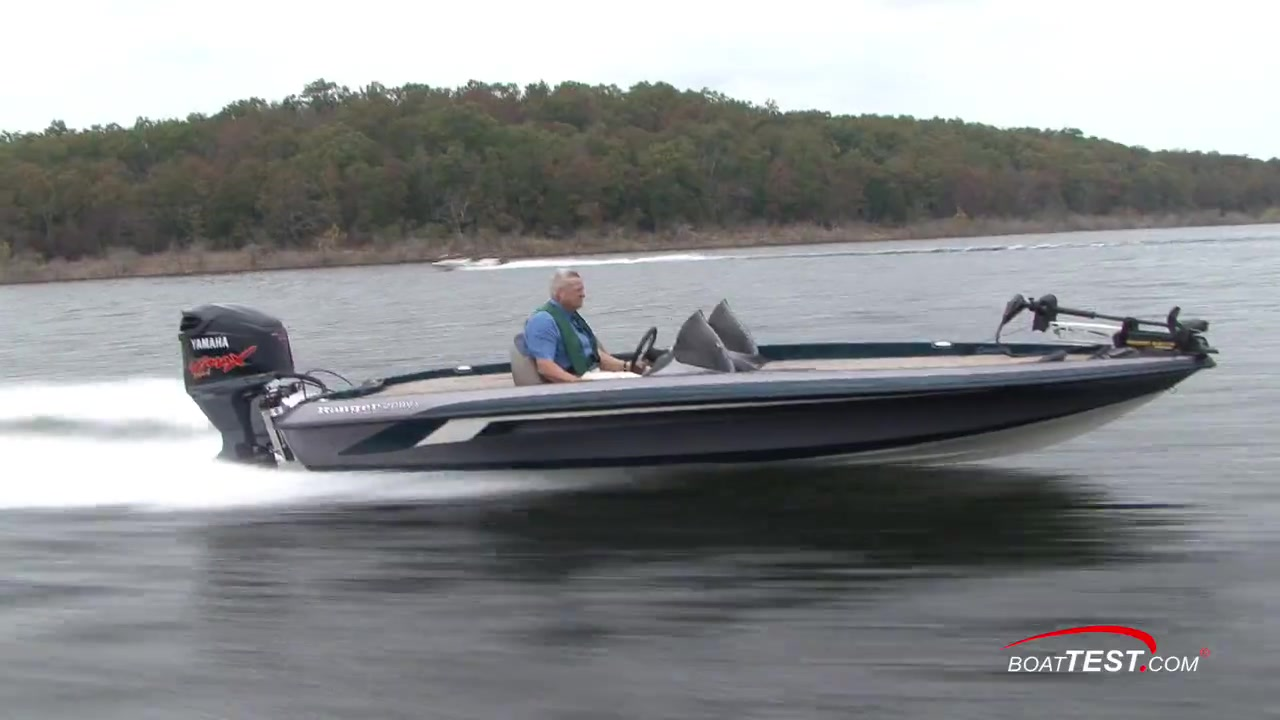boat: (178, 301, 1222, 492)
